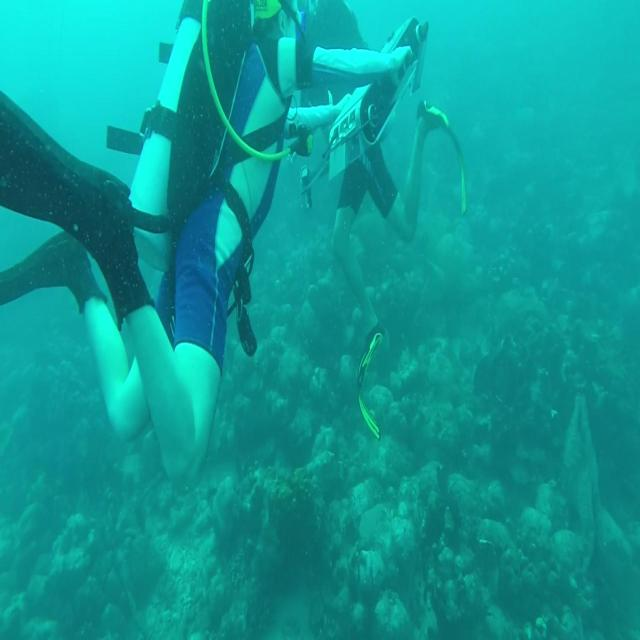human: (1, 1, 427, 491), (292, 11, 467, 442)
